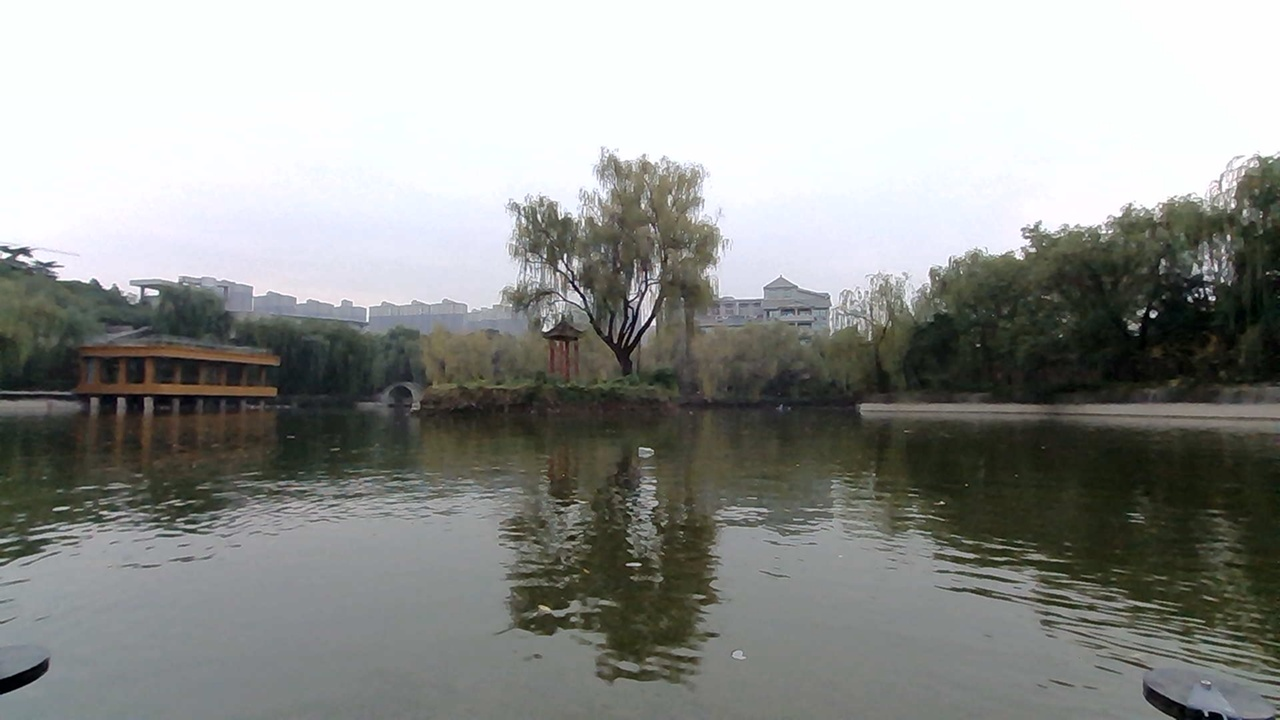bottle: (629, 429, 684, 461)
